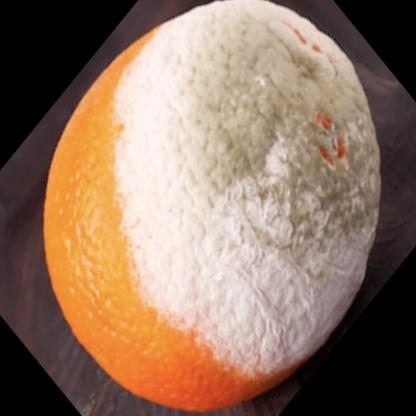rotten: (44, 1, 382, 412)
